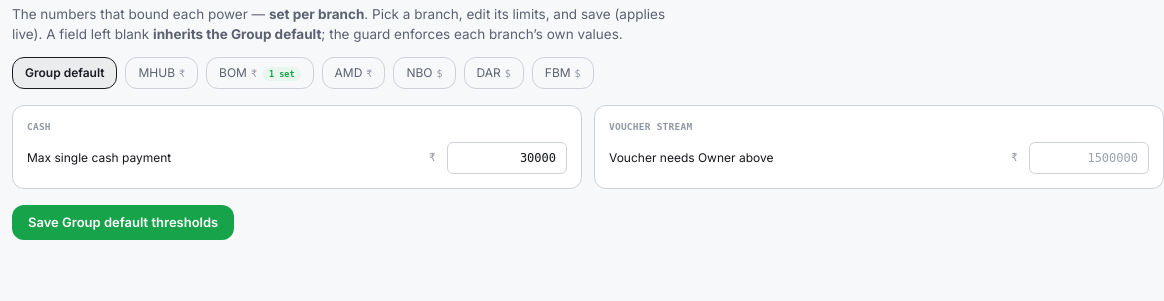
Test: BranchLimitsEditor › rejects a negative value before saving
Type "-5" into the number field labelled "Max single cash payment" at (507, 158), box [447,142,567,174]
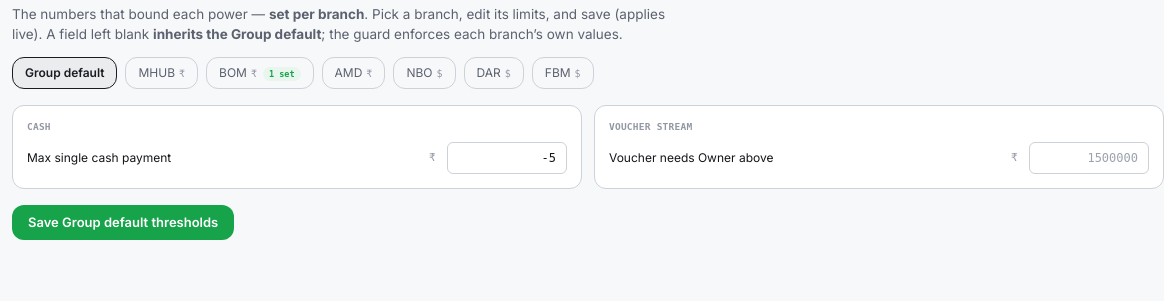
Click the button "Save Group default thresholds" at (123, 223), box [12,205,234,240]
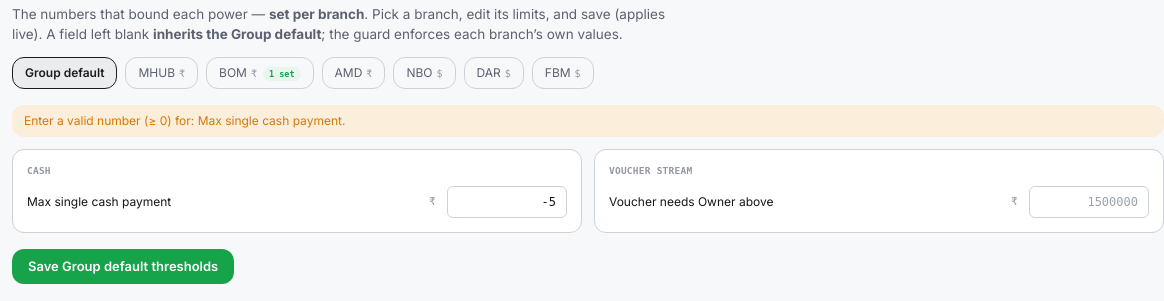
Expected: the message shows "valid number", [24,112,345,128]
